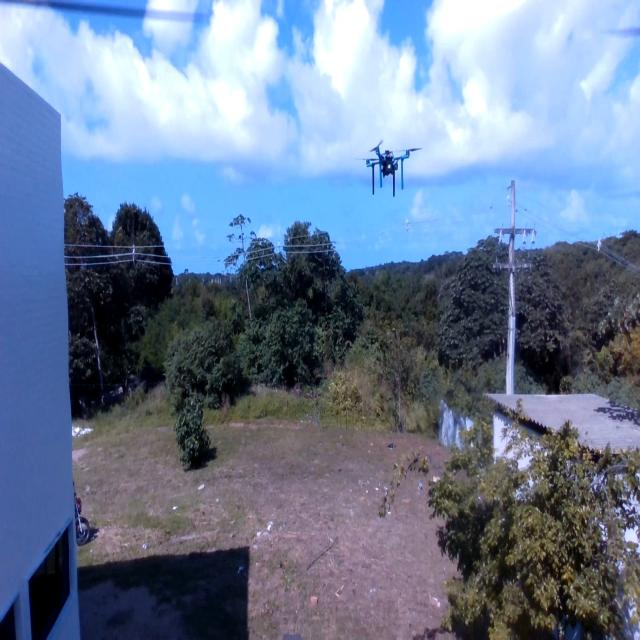-uav-: (349, 118, 433, 226)
